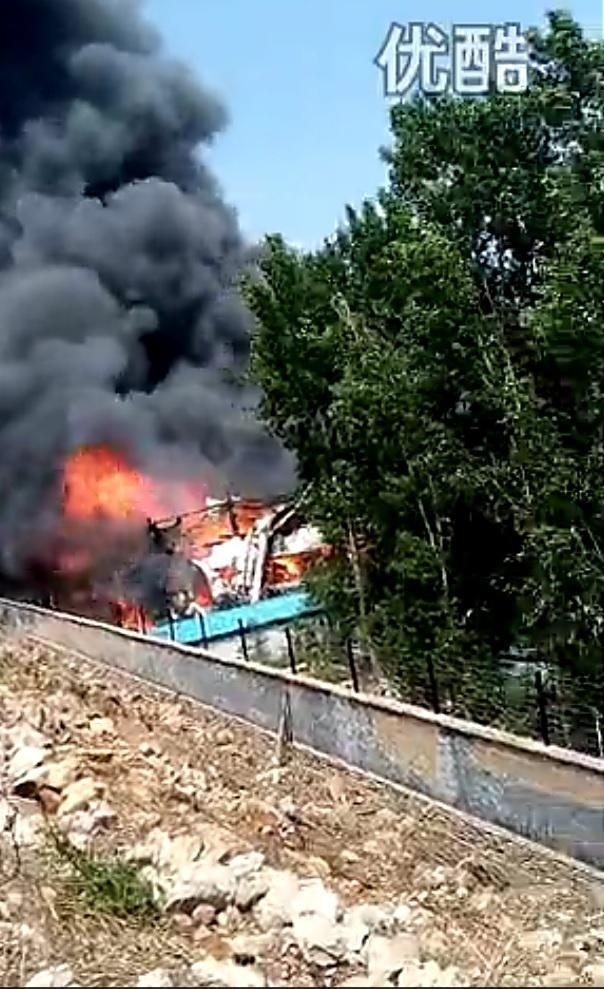fire: (54, 447, 294, 593)
